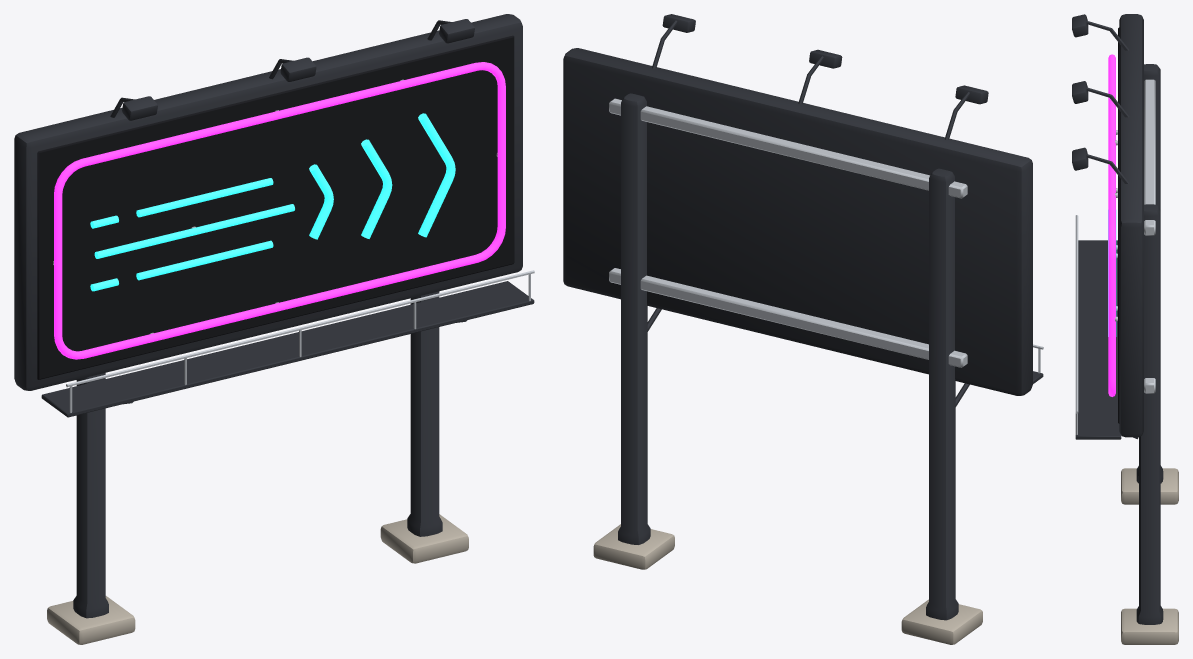
File: neon_sign.glb
The picture shows the model from 3 angles, left to right: view 1: azimuth 30°, elevation 25°; view 2: azimuth 150°, elevation 25°; view 3: azimuth 270°, elevation 25°; orthographic projection. The views are drawn at different scales.
Parts seen in each view (by area): view 1: neon_sign; view 2: neon_sign; view 3: neon_sign.
Boxes of the visible parts, box(x1,y1,x2,y2) form: neon_sign: box(14, 14, 534, 644); neon_sign: box(563, 14, 1043, 644); neon_sign: box(1072, 14, 1178, 644).
Size of the model in its own units: 6 by 6.35 by 1.29.
